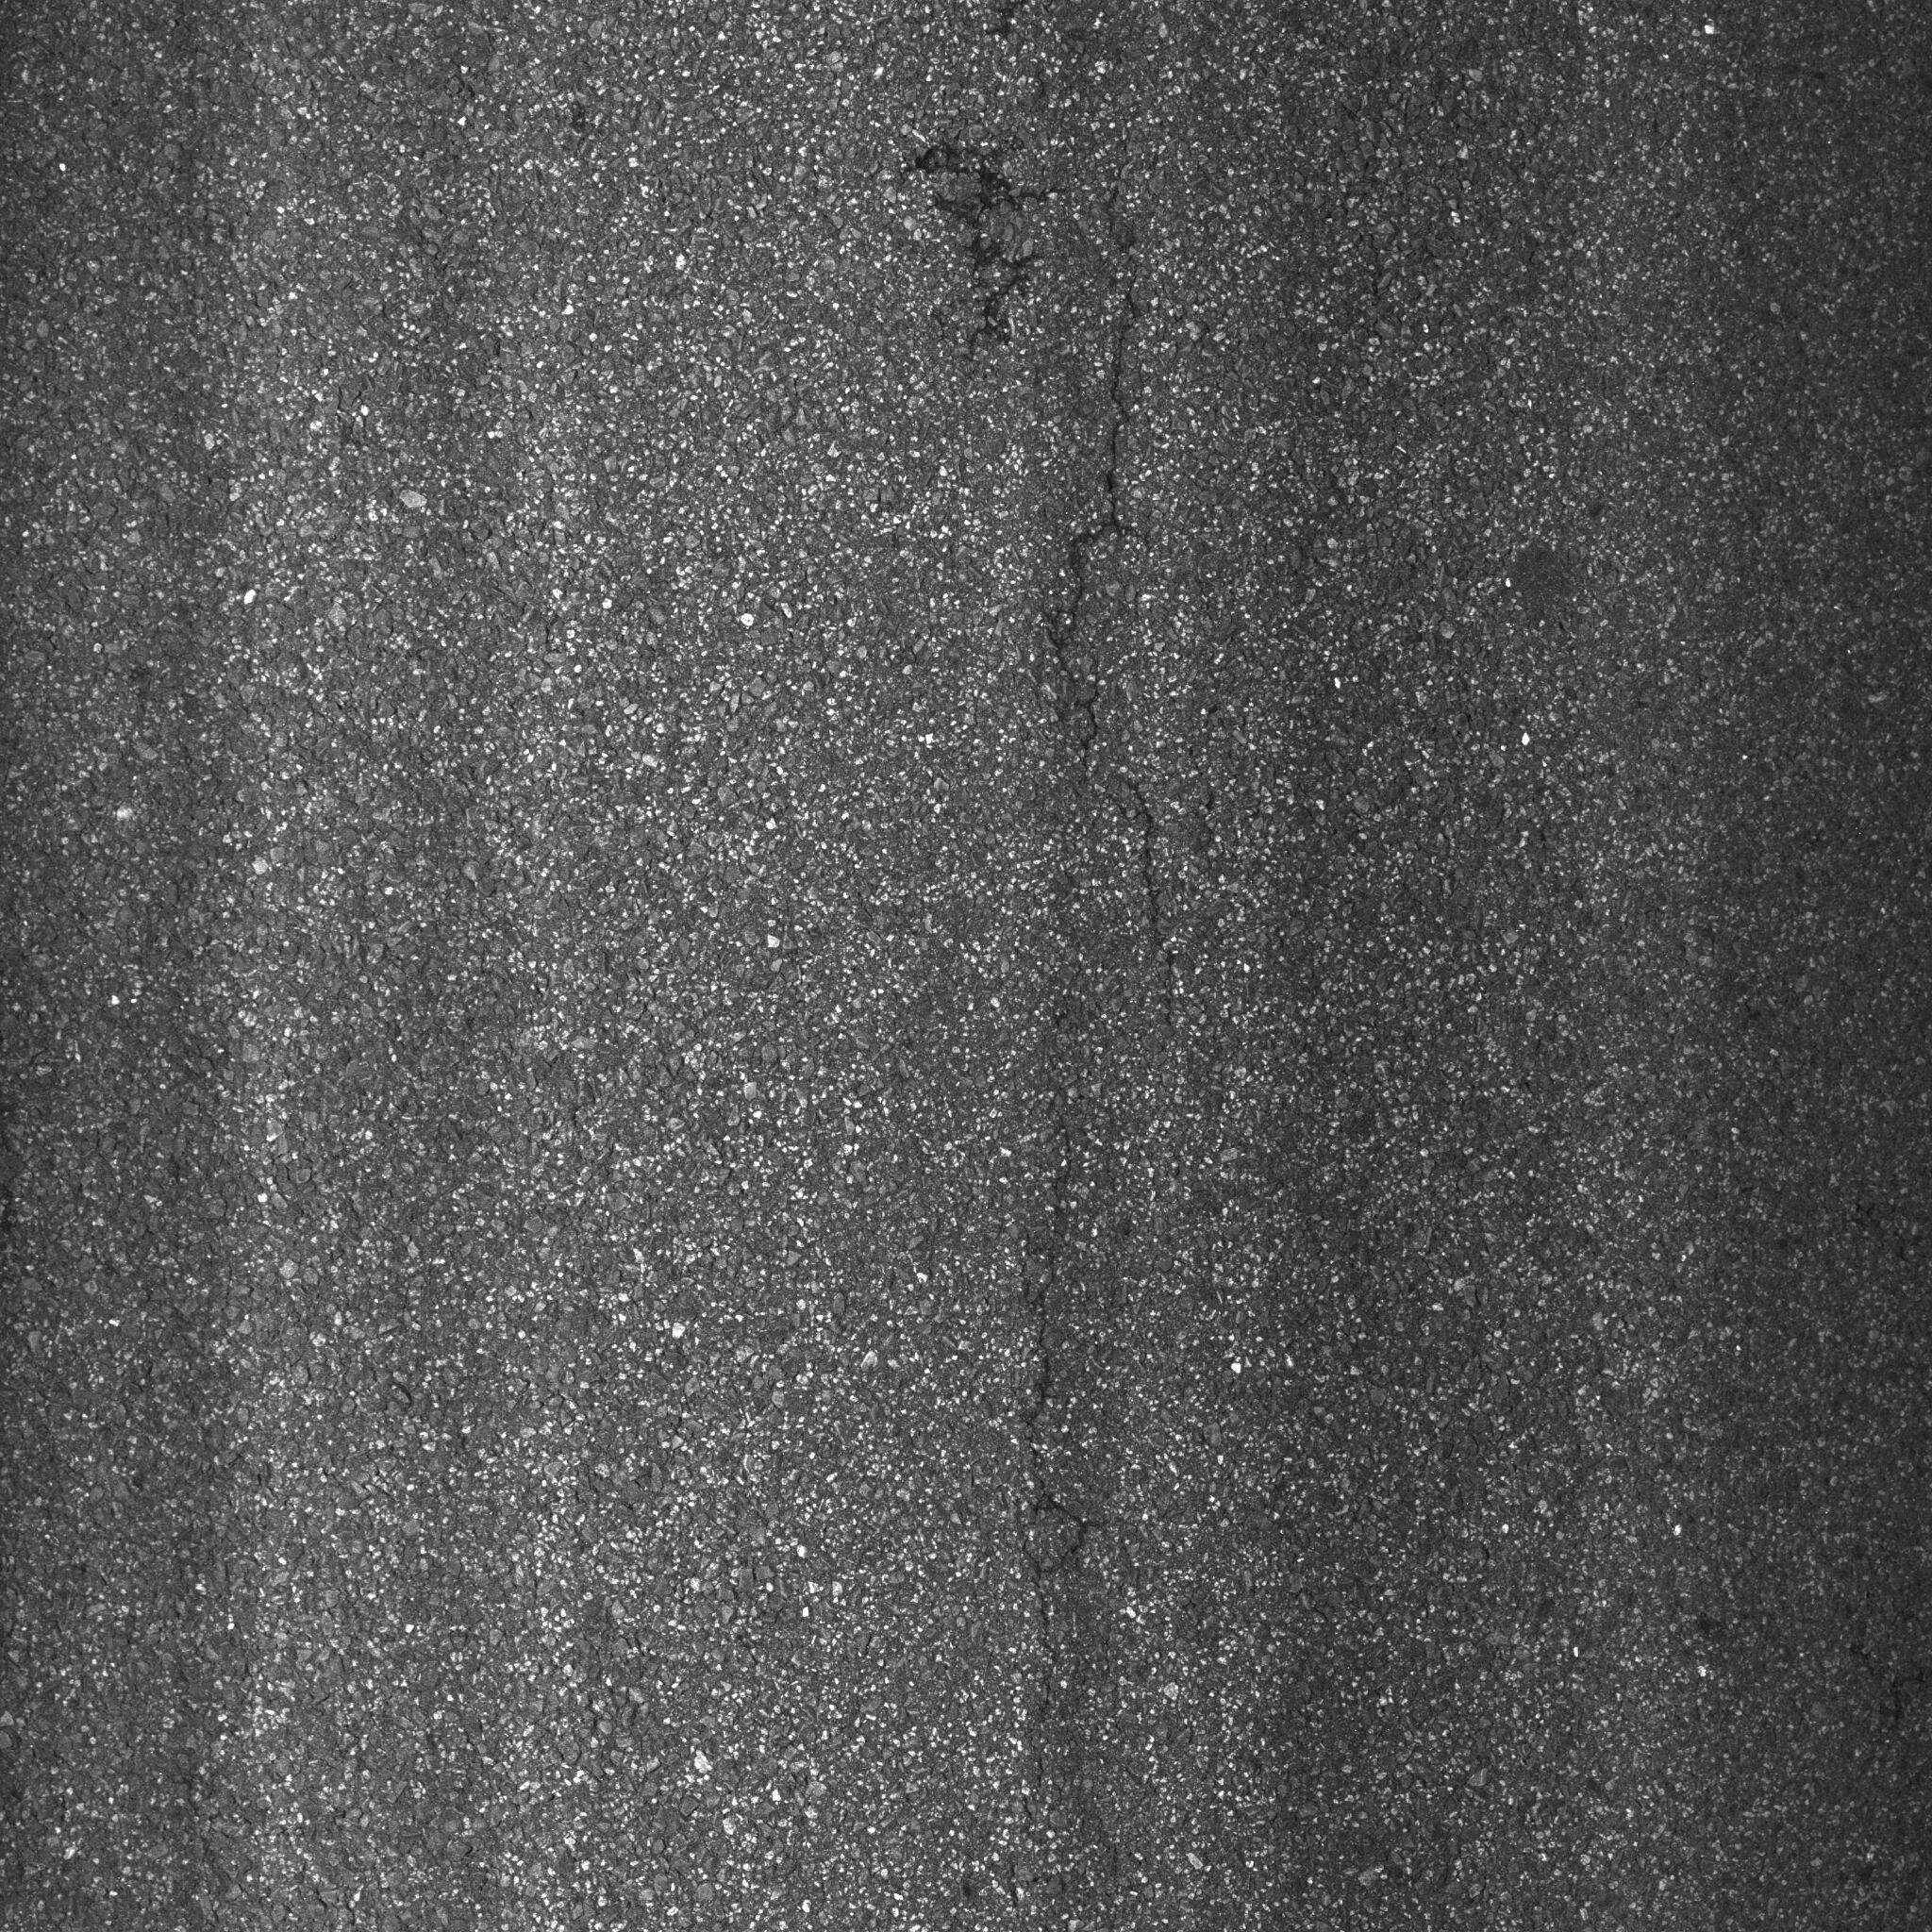longitudinal: (1023, 214, 1212, 955), (1008, 1058, 1102, 1890)
